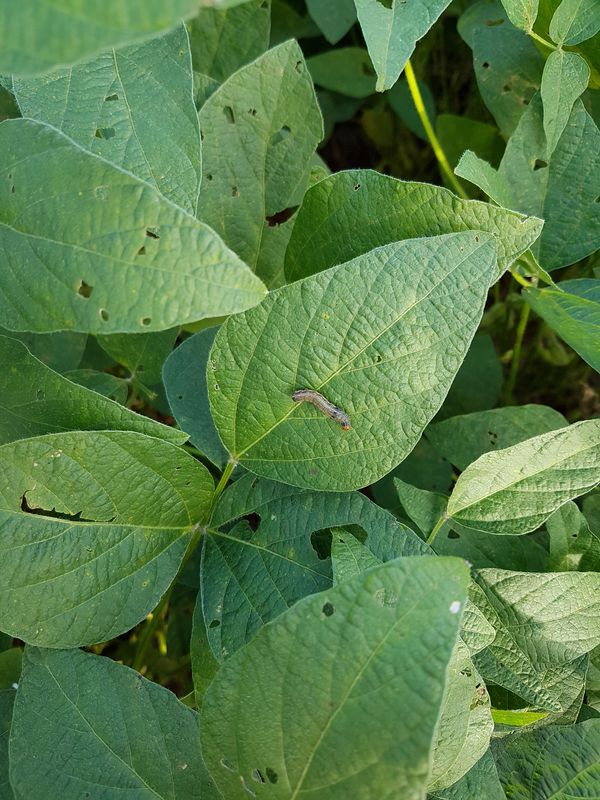Spodoptera_albula: (282, 382, 361, 442)
